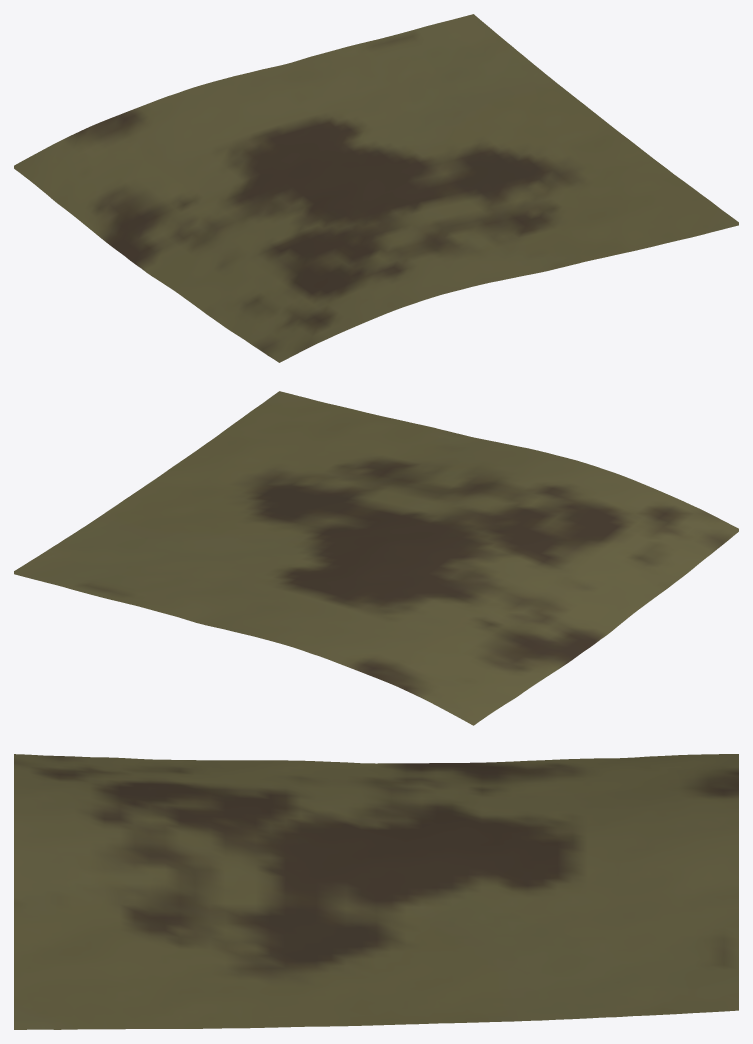
File: land_m_10_08.glb
3 renders of one model, top to bottom at view 1: azimuth 30°, elevation 25°; view 2: azimuth 150°, elevation 25°; view 3: azimuth 270°, elevation 25°, orthographic. The views are drawn at different scales.
Visible parts, largest first — view 1: land_m_10_08; view 2: land_m_10_08; view 3: land_m_10_08.
Part boxes in pixels (x1=…): land_m_10_08: x1=14, y1=14, x2=738, y2=362; land_m_10_08: x1=14, y1=391, x2=738, y2=725; land_m_10_08: x1=14, y1=754, x2=738, y2=1029.
Size of the model in its own units: 960 by 98.66 by 960.
